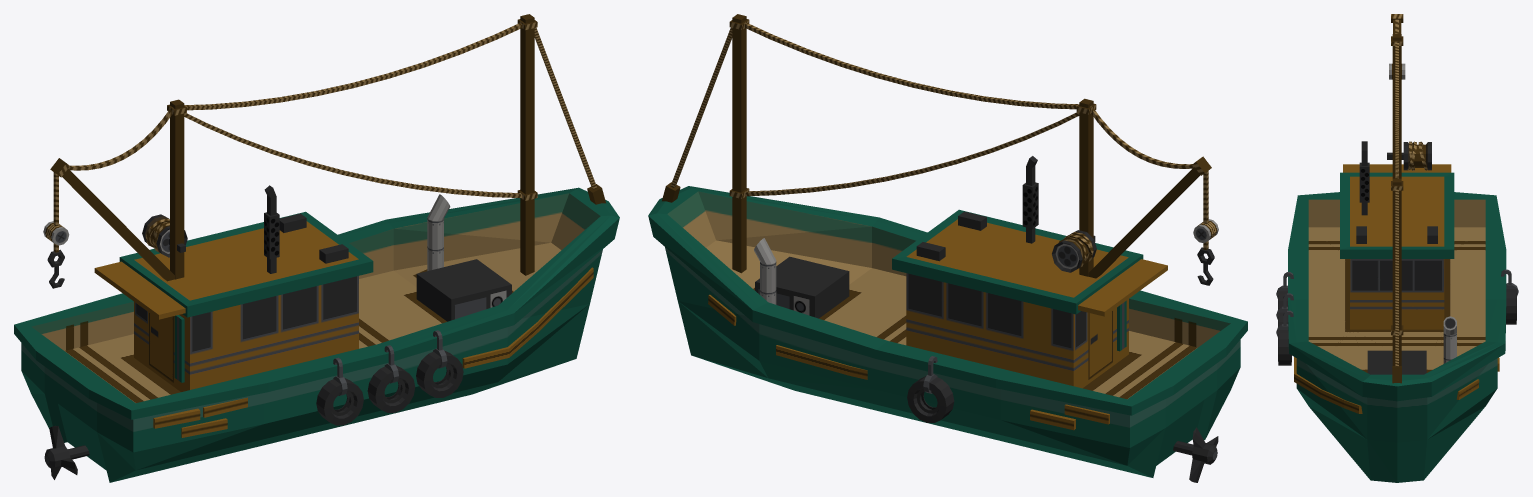
Rendered from Boat.gltf.
3 views of the same model, side by side, from view 1: azimuth 30°, elevation 25°; view 2: azimuth 150°, elevation 25°; view 3: azimuth 270°, elevation 25° (orthographic). The views are drawn at different scales.
Visible parts, largest first — view 1: Boat; view 2: Boat; view 3: Boat.
Part boxes in pixels (x1=…): Boat: x1=14, y1=14, x2=619, y2=482; Boat: x1=648, y1=14, x2=1247, y2=482; Boat: x1=1276, y1=14, x2=1518, y2=482.
Bounding box in the file's own units: 9.29 × 5.58 × 4.1.
Materials: 1 (1 with a texture image).
